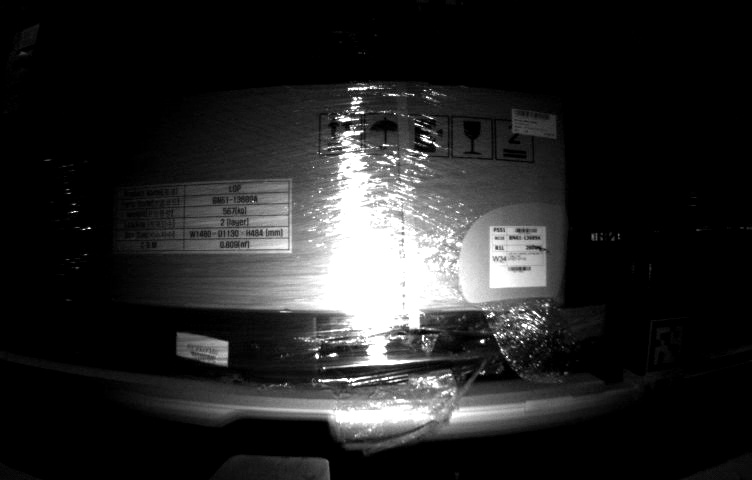True Barcode: (487, 222, 550, 286)
